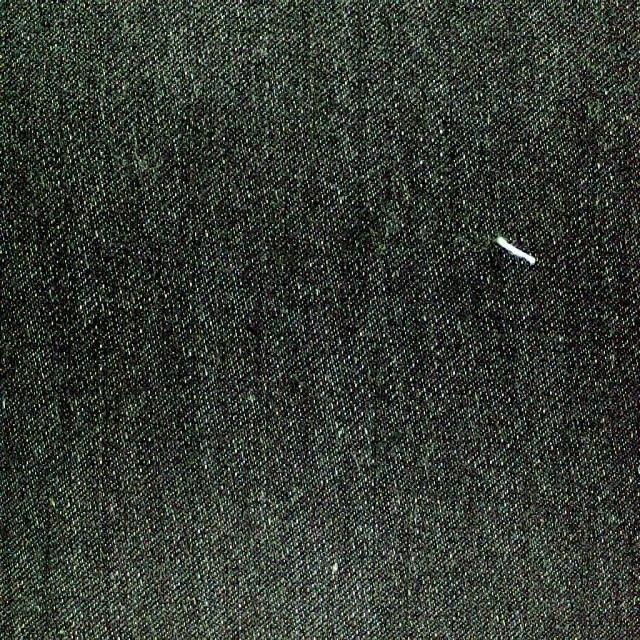defect: (480, 235, 548, 269)
